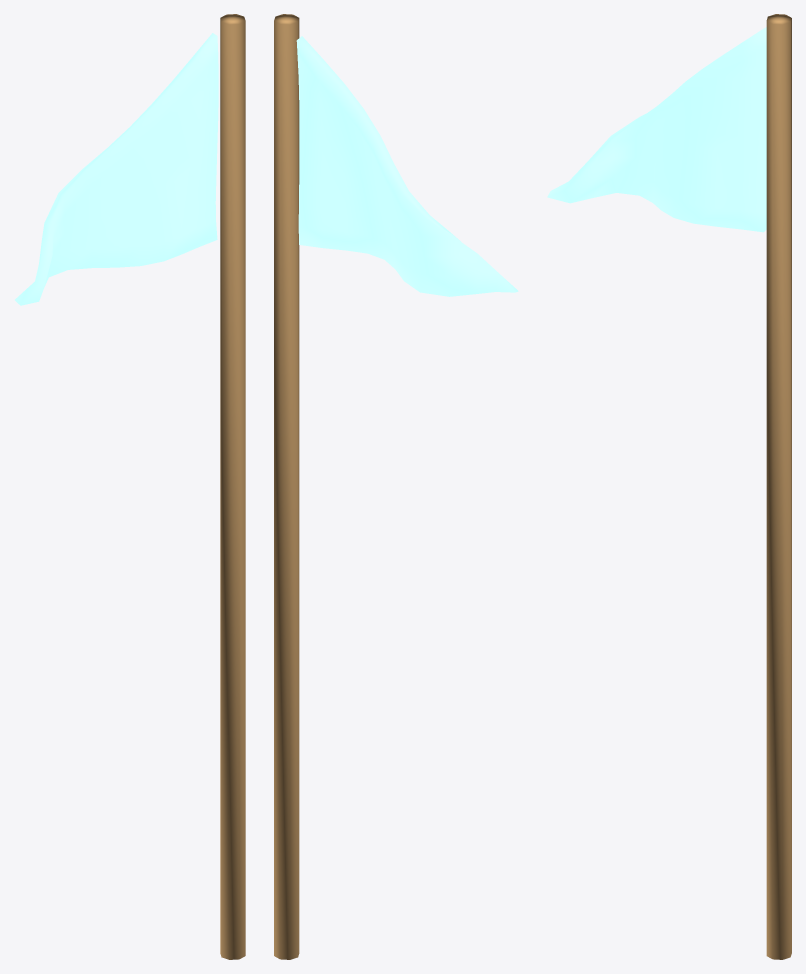
The model's file is flag.fbx.
The picture shows the model from 3 angles, left to right: view 1: azimuth 30°, elevation 25°; view 2: azimuth 150°, elevation 25°; view 3: azimuth 330°, elevation 25°; orthographic projection.
Parts seen in each view (by area): view 1: Cylinder_001_6_0; view 2: Cylinder_001_6_0; view 3: Cylinder_001_6_0.
Part boxes in pixels (x1,y1,x2,y2): Cylinder_001_6_0: (15,14,245,959); Cylinder_001_6_0: (274,14,518,959); Cylinder_001_6_0: (547,14,791,959).
Bounding box in the file's own units: 26.34 × 100 × 5.54.
